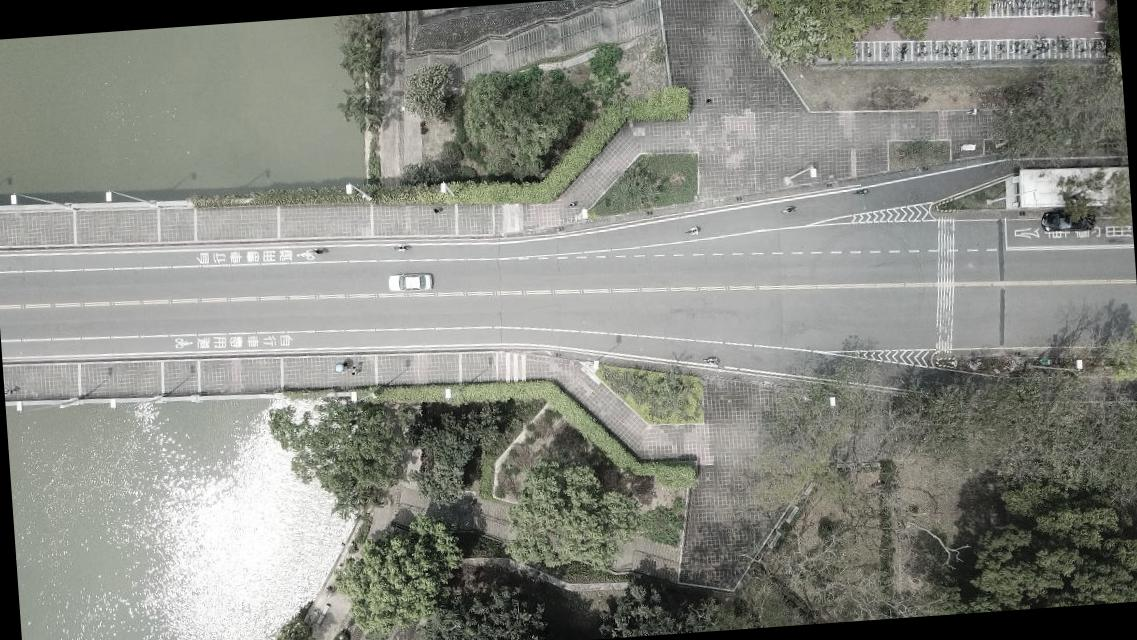vehicle: (1040, 208, 1095, 235), (386, 272, 433, 294)
